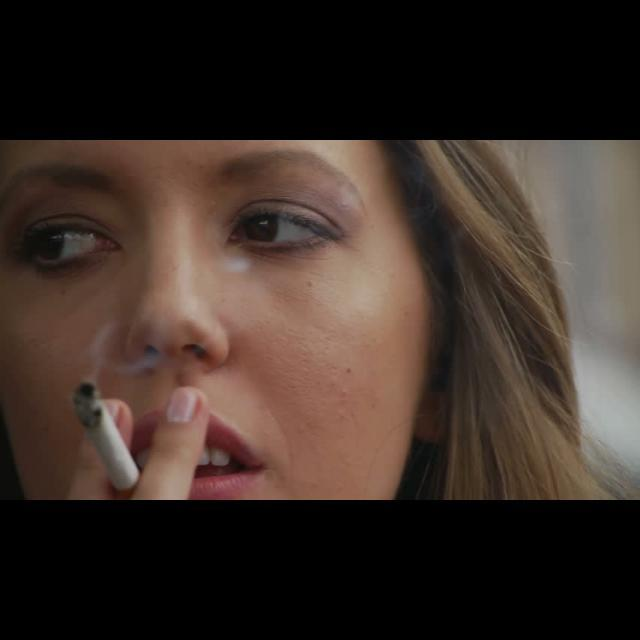rokok: (62, 385, 148, 483)
